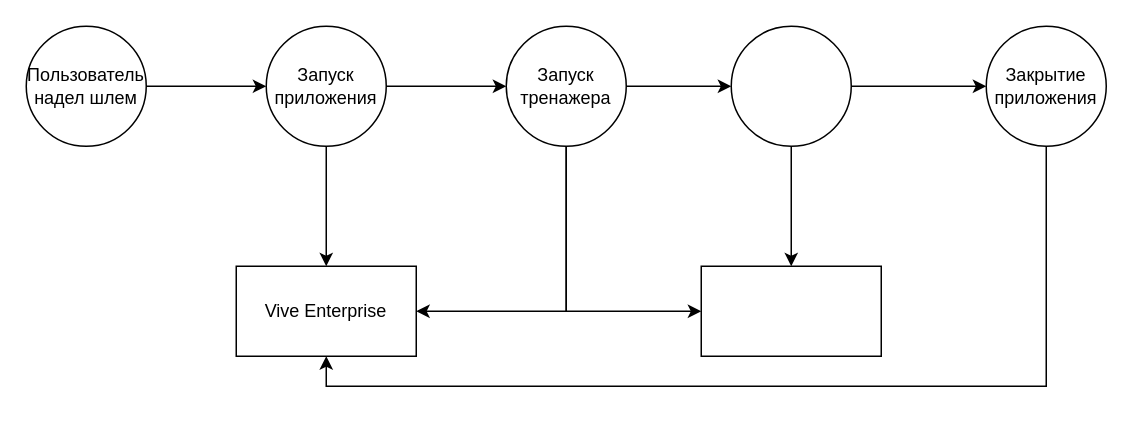
Image size: 1133x425. Some labels were removed from this diagram. The shapes that lost their labels are listed below. From the top down, each one's centre as x and y in pixels, then its label:
At point 790,85: "Работа в тренажере".
At point 790,310: "UnityAnalytics".
